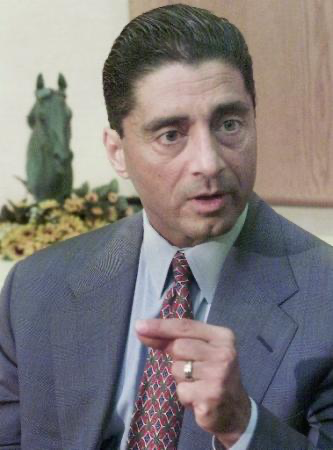Face: (130, 95, 259, 240)
